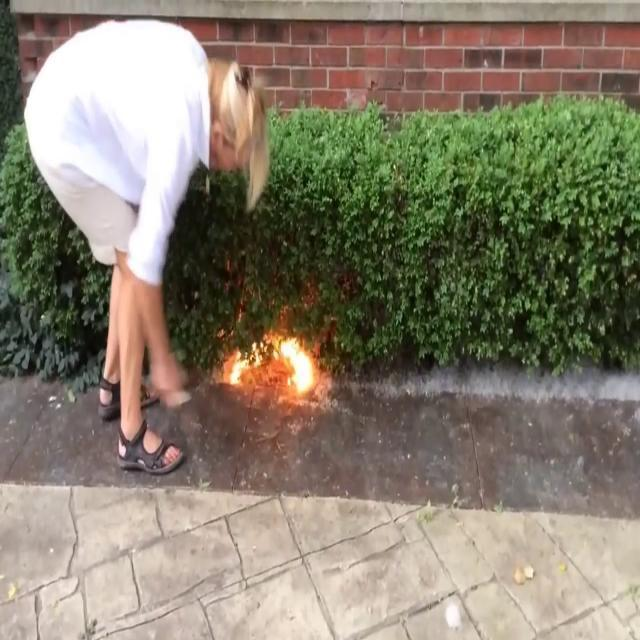Fire: (224, 326, 318, 396)
